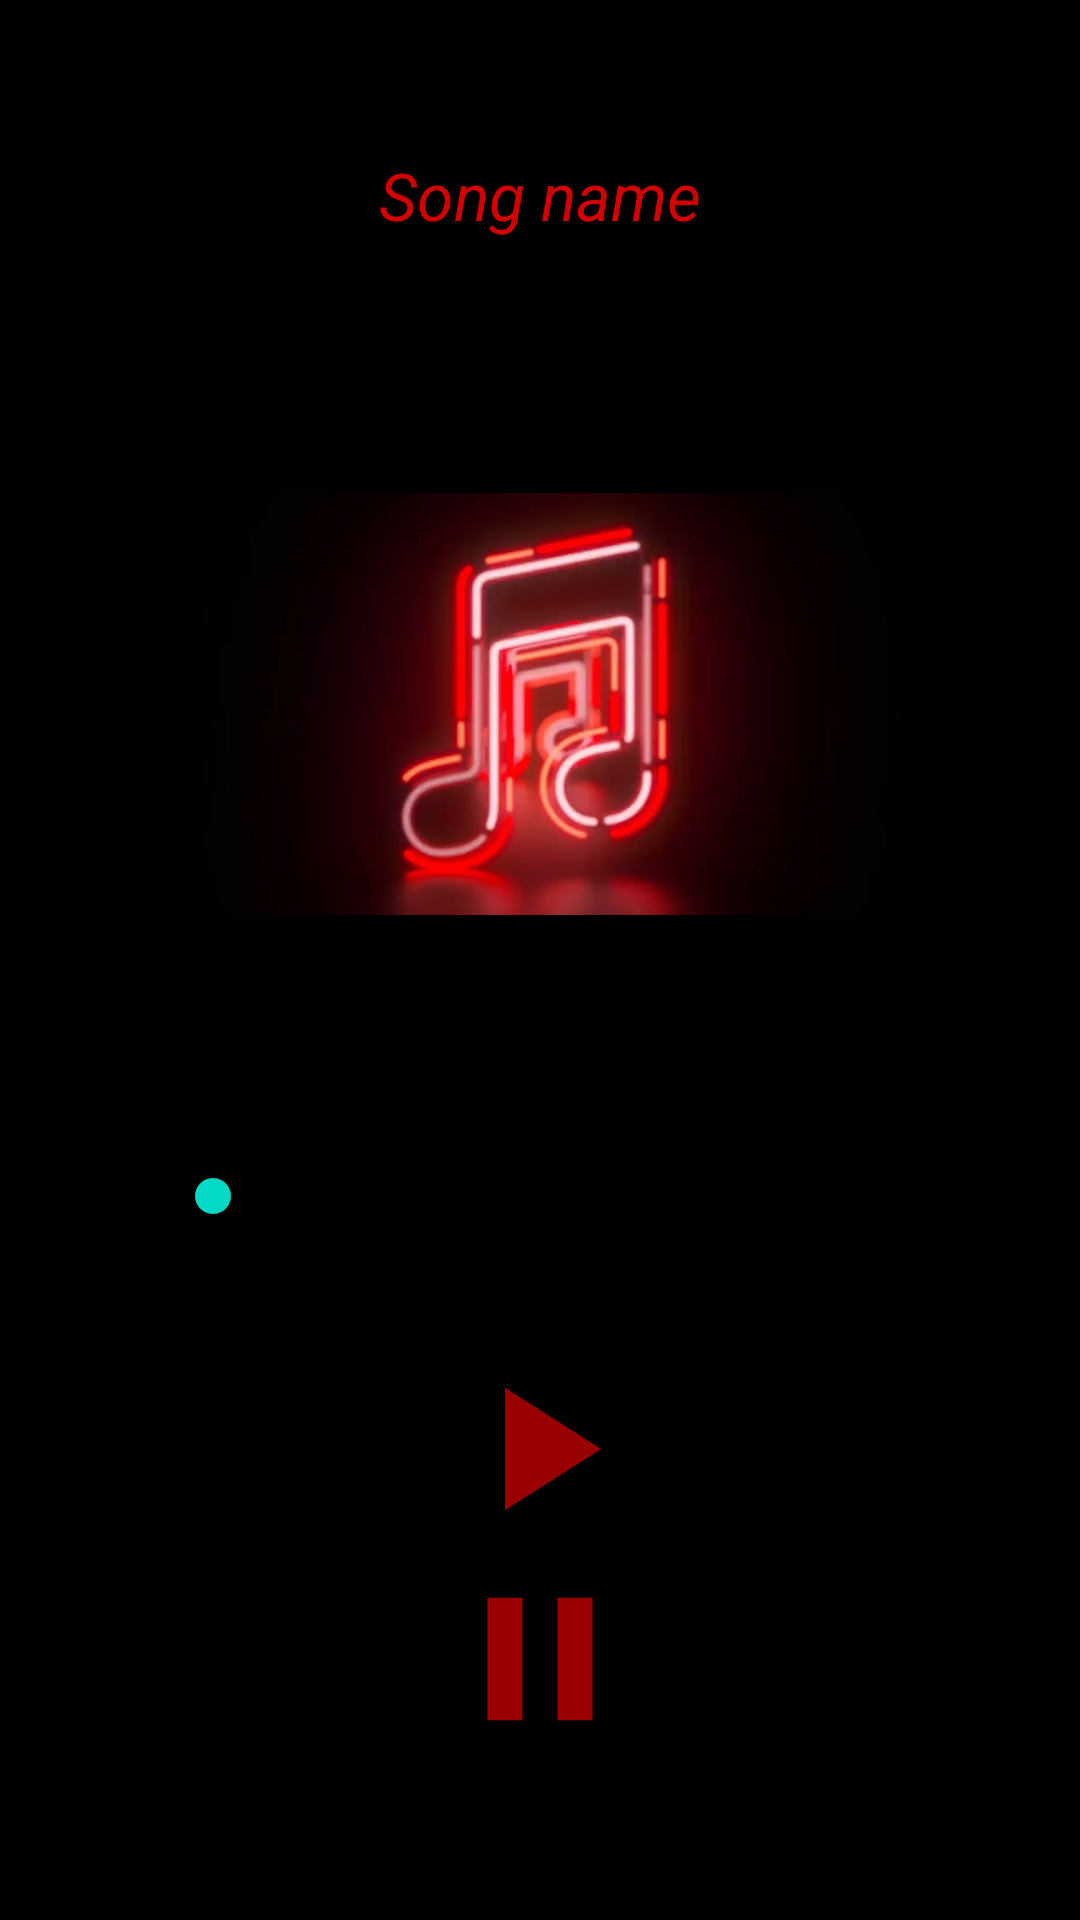

Locate icon controls on the screen. Image size 1080 x 1920, boxes as BBox(x1, y1, x2, y2).
pause: BBox(487, 1597, 593, 1721)
play: BBox(505, 1388, 601, 1510)
